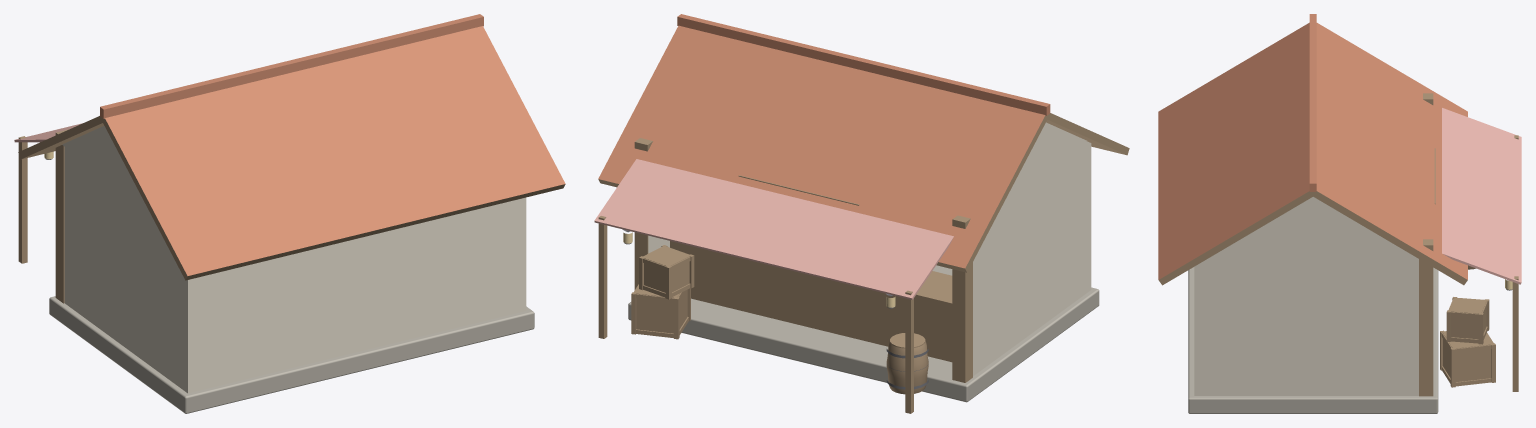
The model's file is market_hall.glb.
3 renders of one model, left to right at view 1: azimuth 30°, elevation 25°; view 2: azimuth 150°, elevation 25°; view 3: azimuth 270°, elevation 25°, orthographic. The views are drawn at different scales.
Visible parts, largest first — view 1: Market; view 2: Market; view 3: Market.
Part boxes in pixels (box(x1,y1,x2,y2)): Market: box(14, 14, 565, 413); Market: box(594, 14, 1129, 413); Market: box(1158, 14, 1521, 413).
Bounding box in the file's own units: 6.74 × 4.41 × 6.1.
